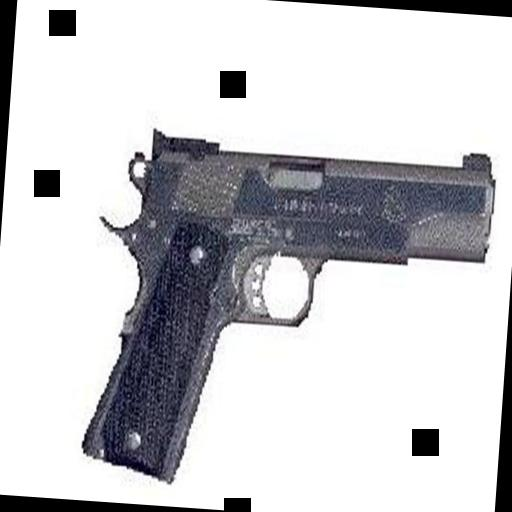Handgun: (71, 124, 495, 496)
